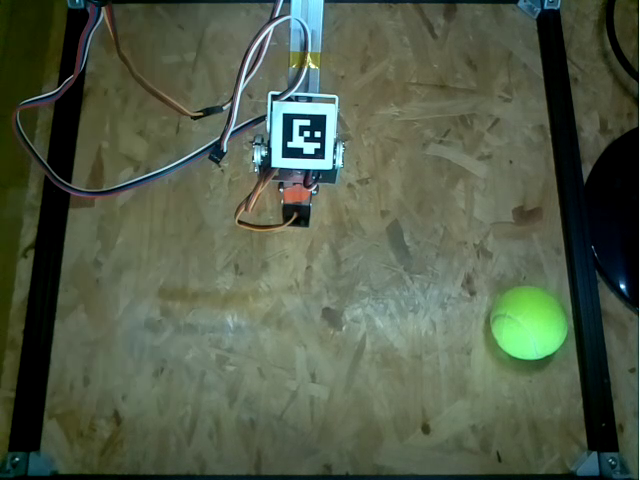tennis_ball: (490, 283, 569, 360)
